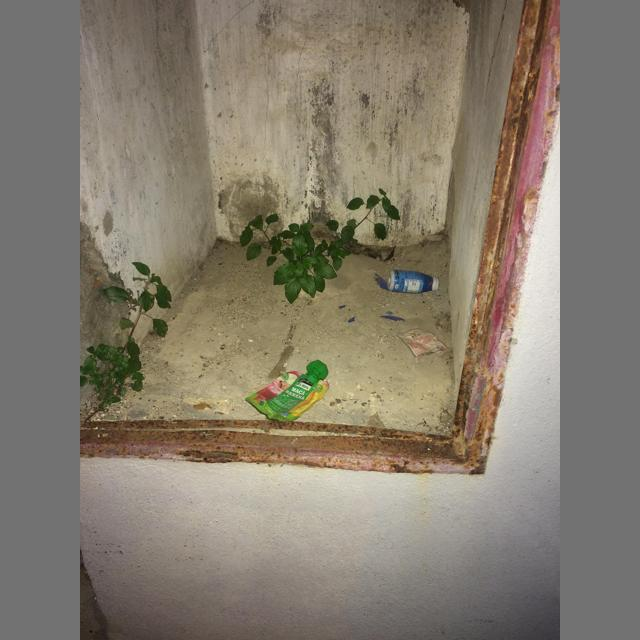litter: (245, 360, 328, 421), (396, 329, 448, 358), (387, 270, 439, 294), (375, 273, 391, 291), (379, 316, 405, 321), (348, 317, 355, 323), (339, 305, 346, 309), (386, 312, 394, 315)
